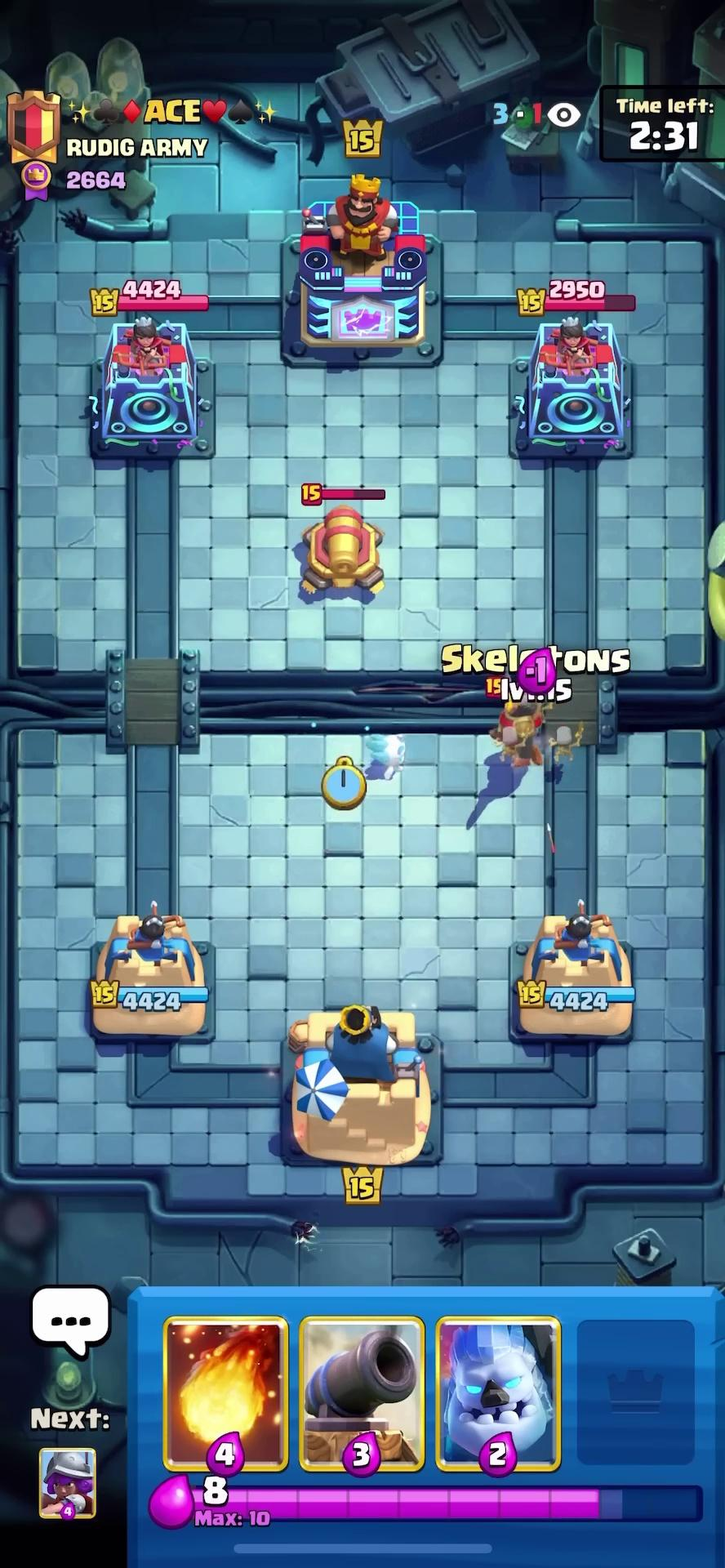ice_spirit: (367, 715, 427, 786)
